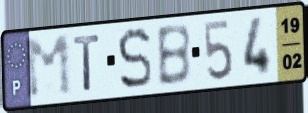4: (240, 13, 276, 78)
5: (202, 16, 235, 83)
B: (154, 21, 193, 89)
M: (23, 32, 75, 102)
S: (115, 25, 153, 93)
T: (71, 32, 102, 93)
